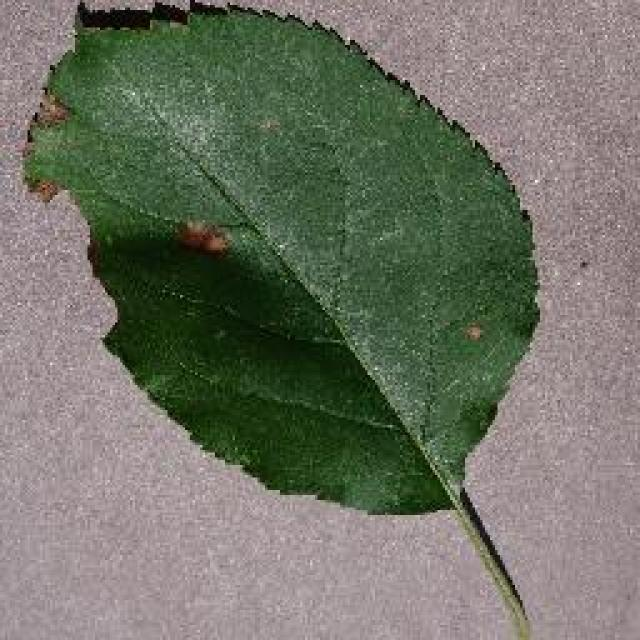Black_rot: (20, 0, 542, 638)
